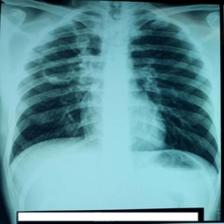tuberculosis: (2, 4, 220, 182)
